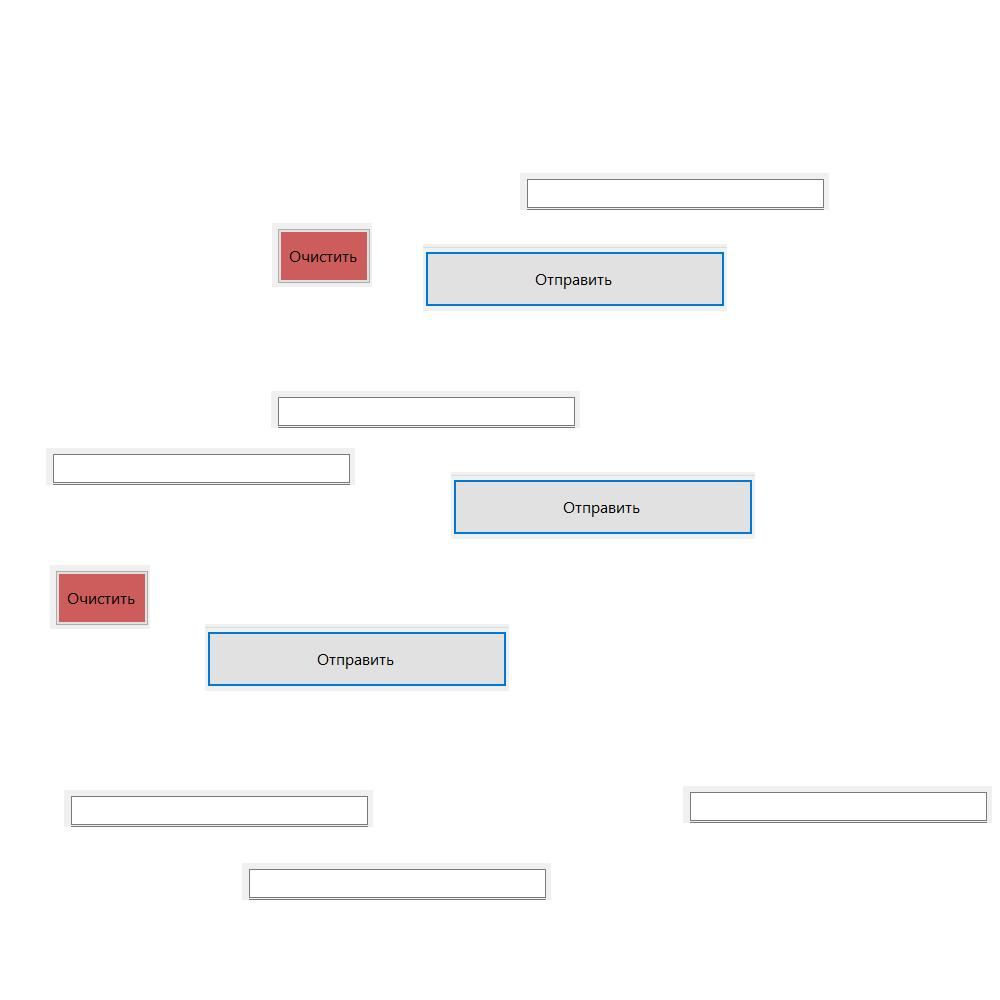Button: (451, 472, 755, 539), (423, 244, 727, 311), (205, 624, 509, 691), (50, 565, 150, 629), (272, 223, 372, 287)
EditText-: (271, 391, 580, 428), (683, 786, 992, 823), (64, 790, 373, 827), (242, 863, 551, 900), (46, 448, 355, 485), (520, 173, 829, 210)
